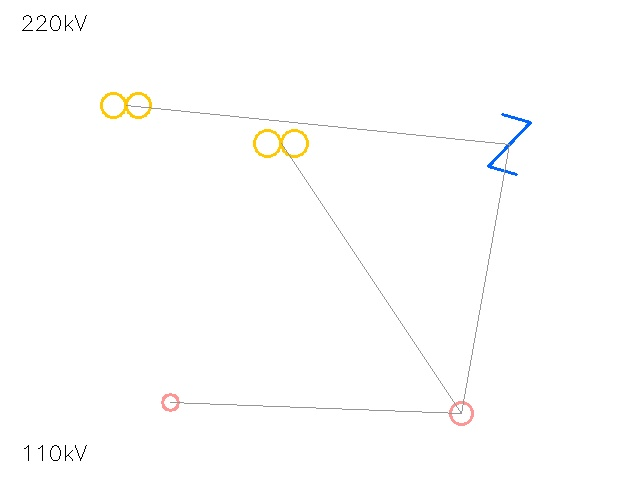circuit_breaker: (479, 114, 539, 174)
reactor: (438, 390, 484, 436), (154, 386, 186, 418)
transformer_2w: (247, 109, 315, 177), (95, 74, 157, 136)
